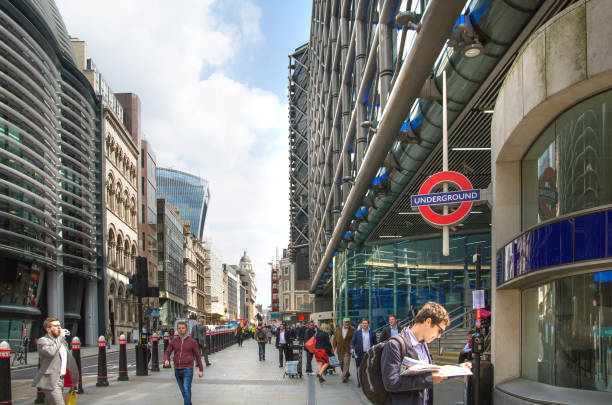London Underground: (407, 170, 480, 226)
